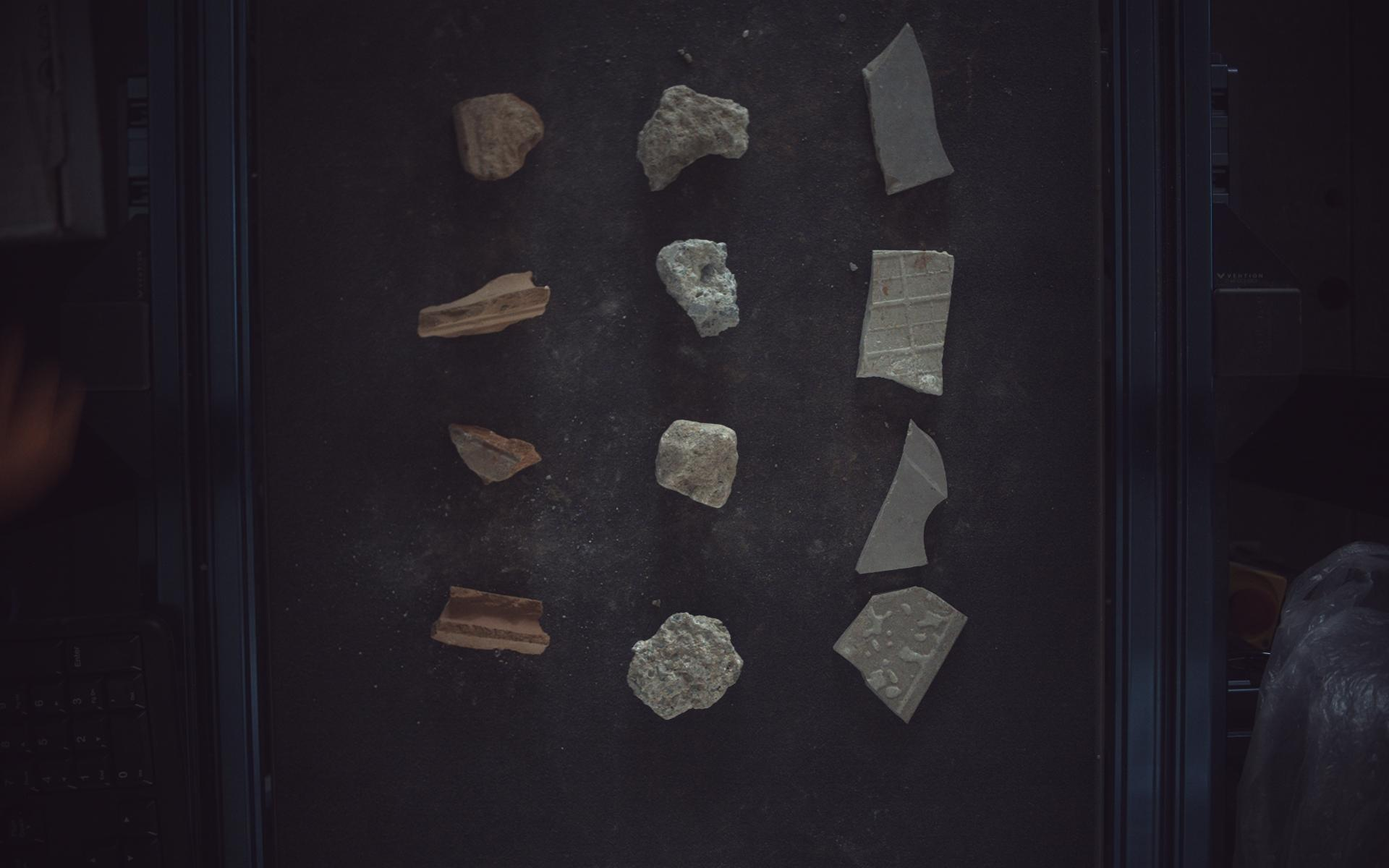brick: (418, 271, 550, 337), (432, 587, 551, 656), (453, 92, 544, 179), (450, 425, 541, 485)
concrete: (628, 613, 744, 720), (637, 84, 749, 190), (657, 239, 740, 336), (657, 420, 739, 509)
tile: (835, 587, 969, 723), (865, 22, 956, 193), (859, 250, 956, 395), (858, 421, 949, 574)
